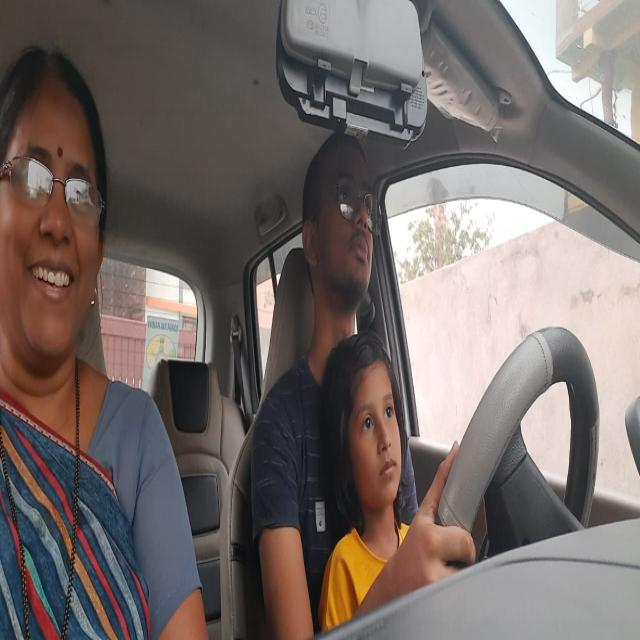child: (318, 335, 414, 537)
person: (0, 36, 116, 388), (296, 129, 391, 319)
